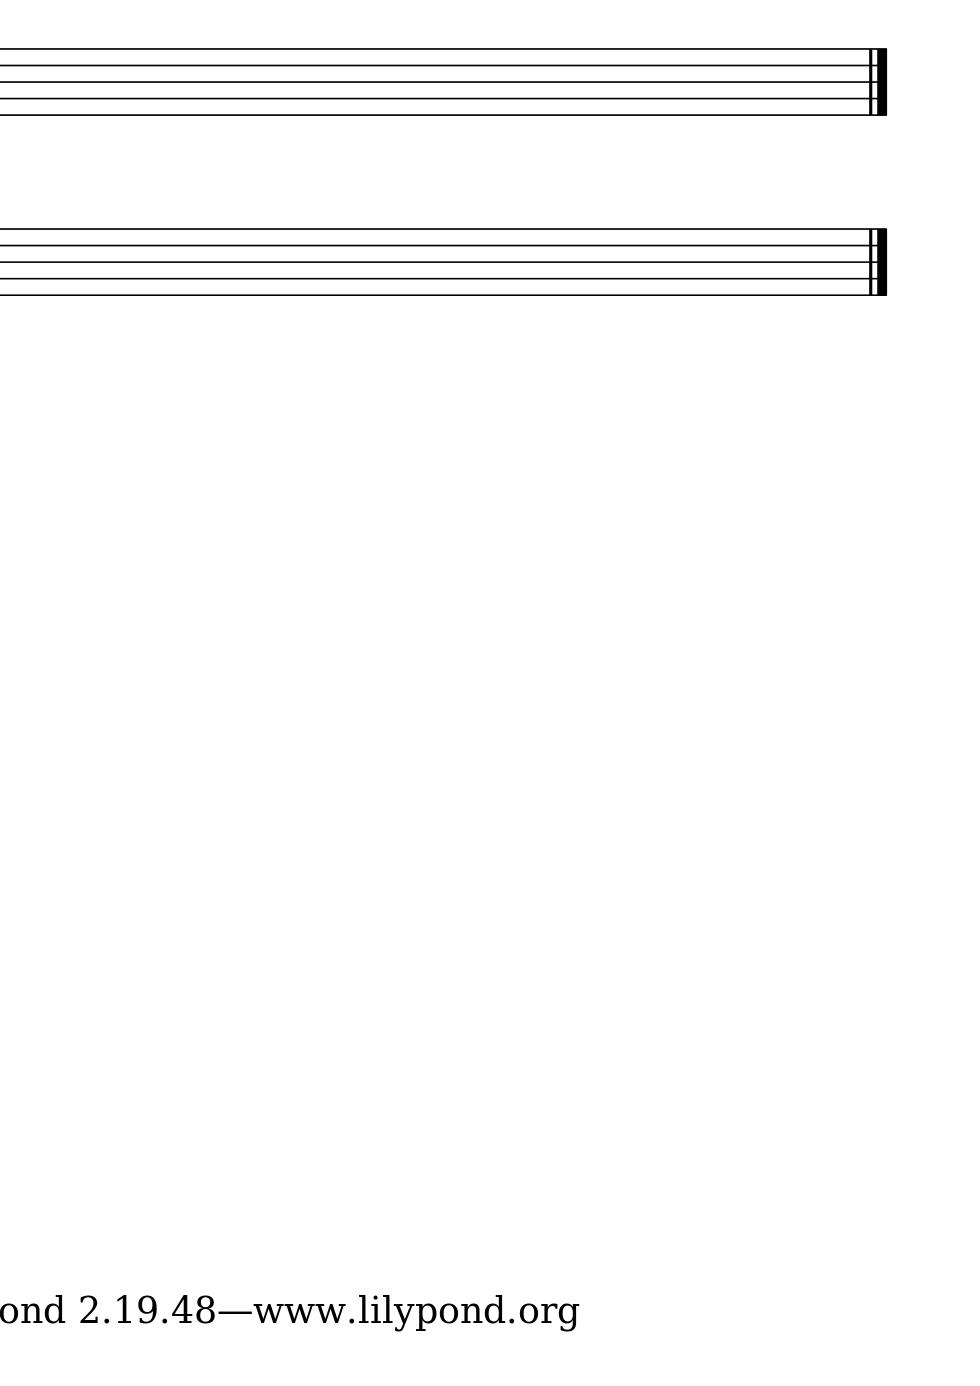Final_barline: (863, 226, 891, 296), (863, 47, 891, 116)
